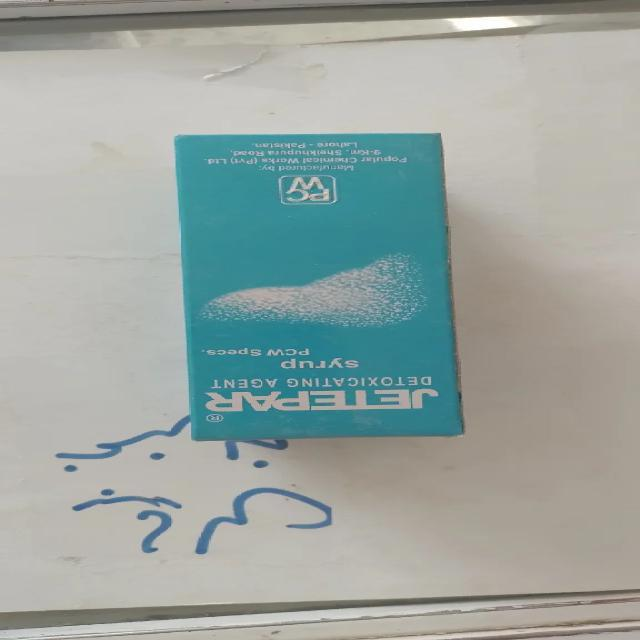drug-name: (202, 391, 446, 412)
